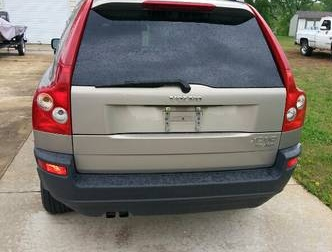volvo: (8, 1, 322, 223)
